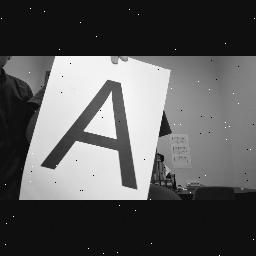a: (36, 71, 142, 193)
